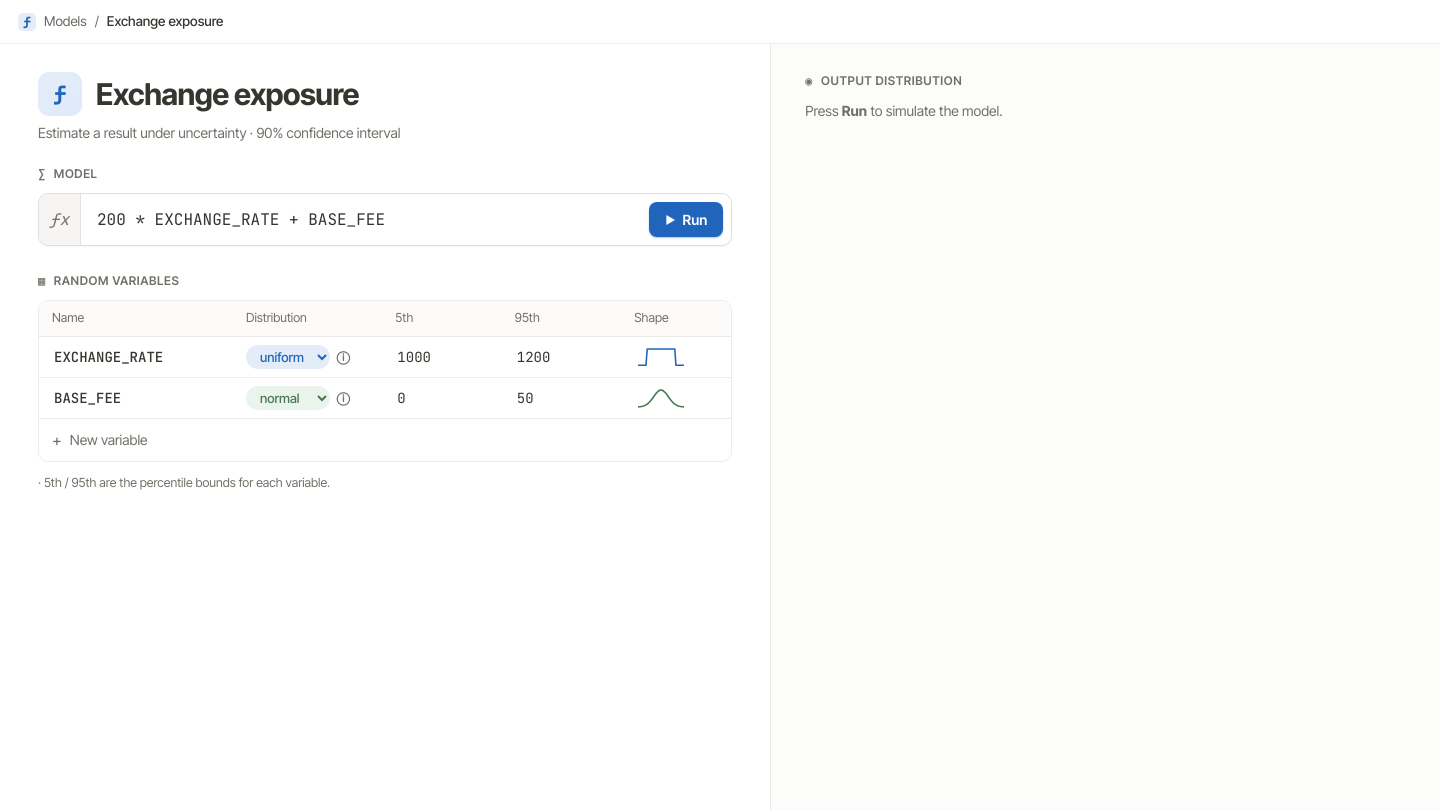
Scenario: E-10 — stale chart cleared on subsequent error › clears the chart when a subsequent Run errors after a prior successful Run
The width and height of the screenshot is (1440, 810).
# First Run succeeds — chart should appear.
Click the button "▶ Run" at x=686, y=220, box [649, 202, 723, 237]
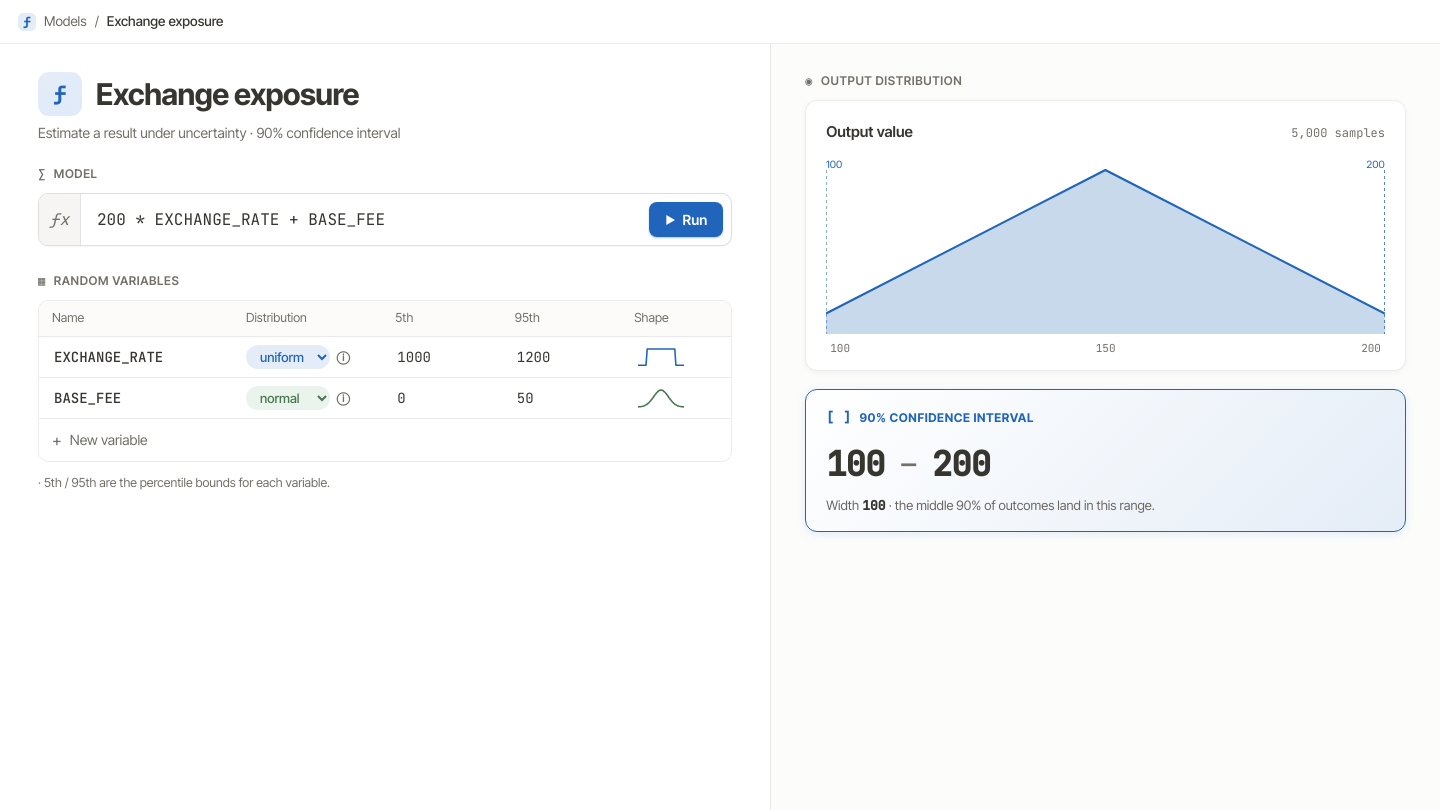
Expected: the text "5,000 samples" is shown, [1291, 124, 1385, 142]
Click the button "▶ Run" at x=686, y=220, box [649, 202, 723, 237]
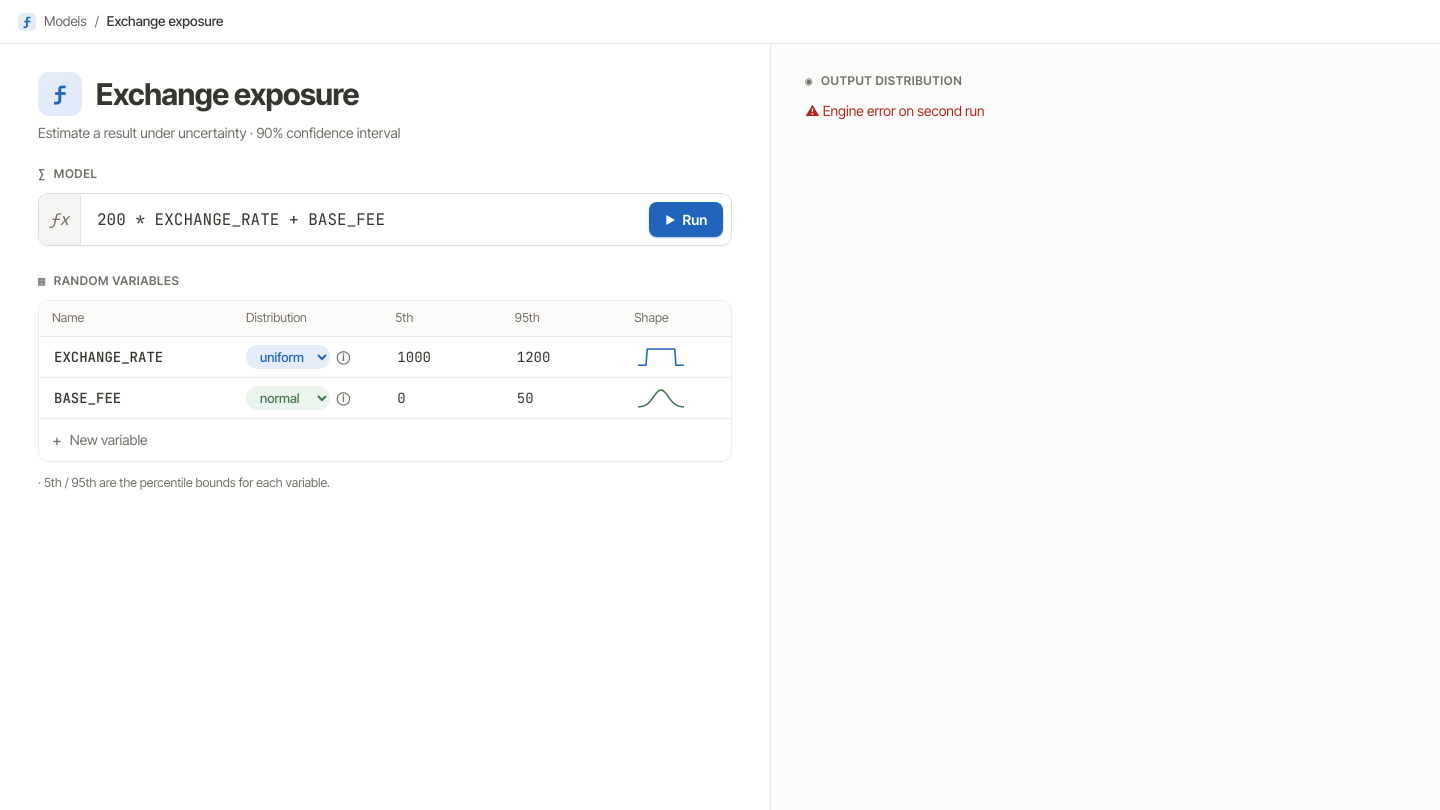
Expected: the number of messages is 1, [805, 102, 985, 119]
Expected: the text "5,000 samples" is gone
